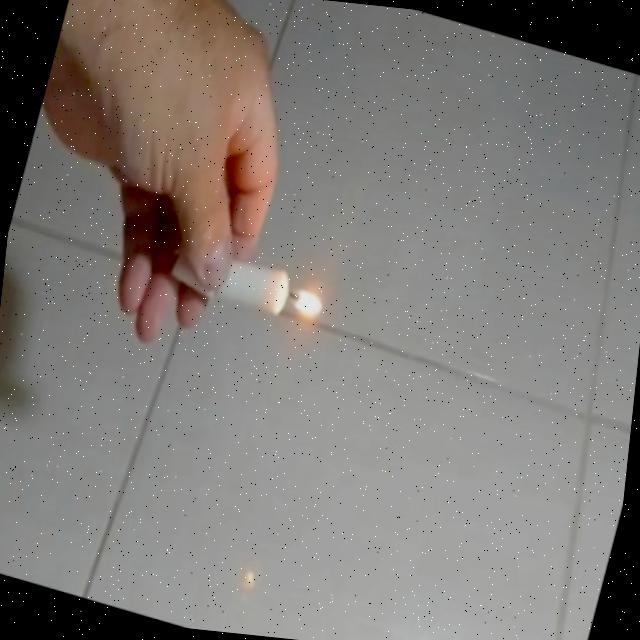fire: (283, 279, 329, 323)
